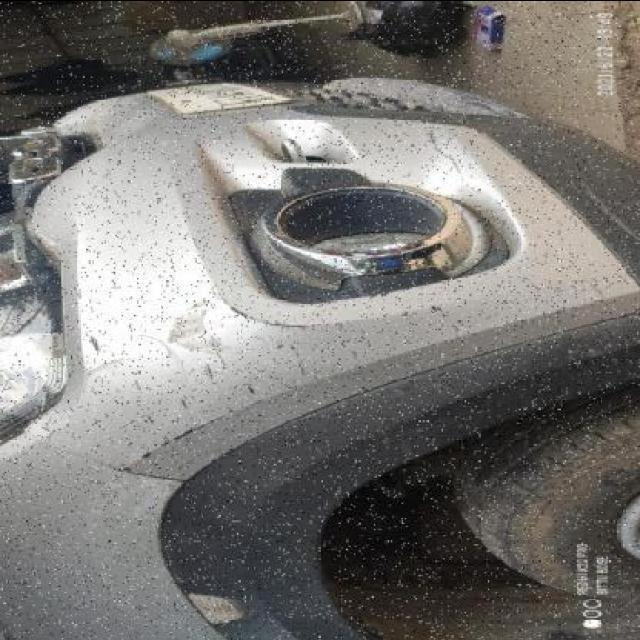front-bumper-dent: (43, 129, 640, 469)
